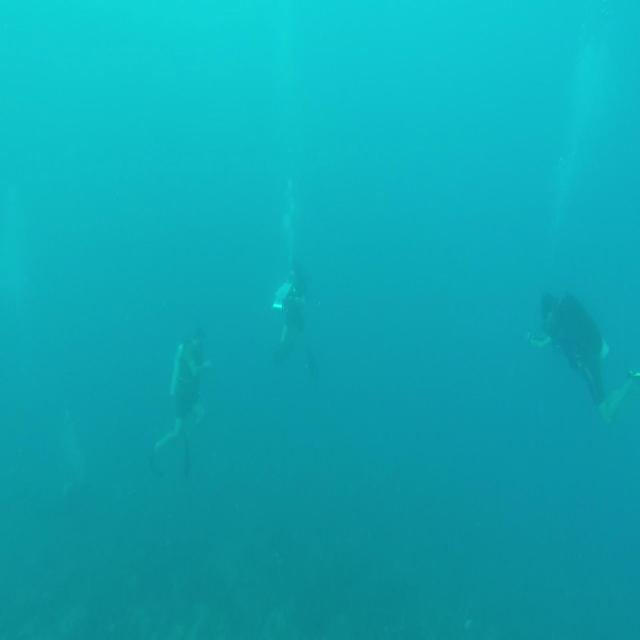human: (527, 288, 639, 424), (150, 325, 212, 478), (270, 258, 317, 375)
